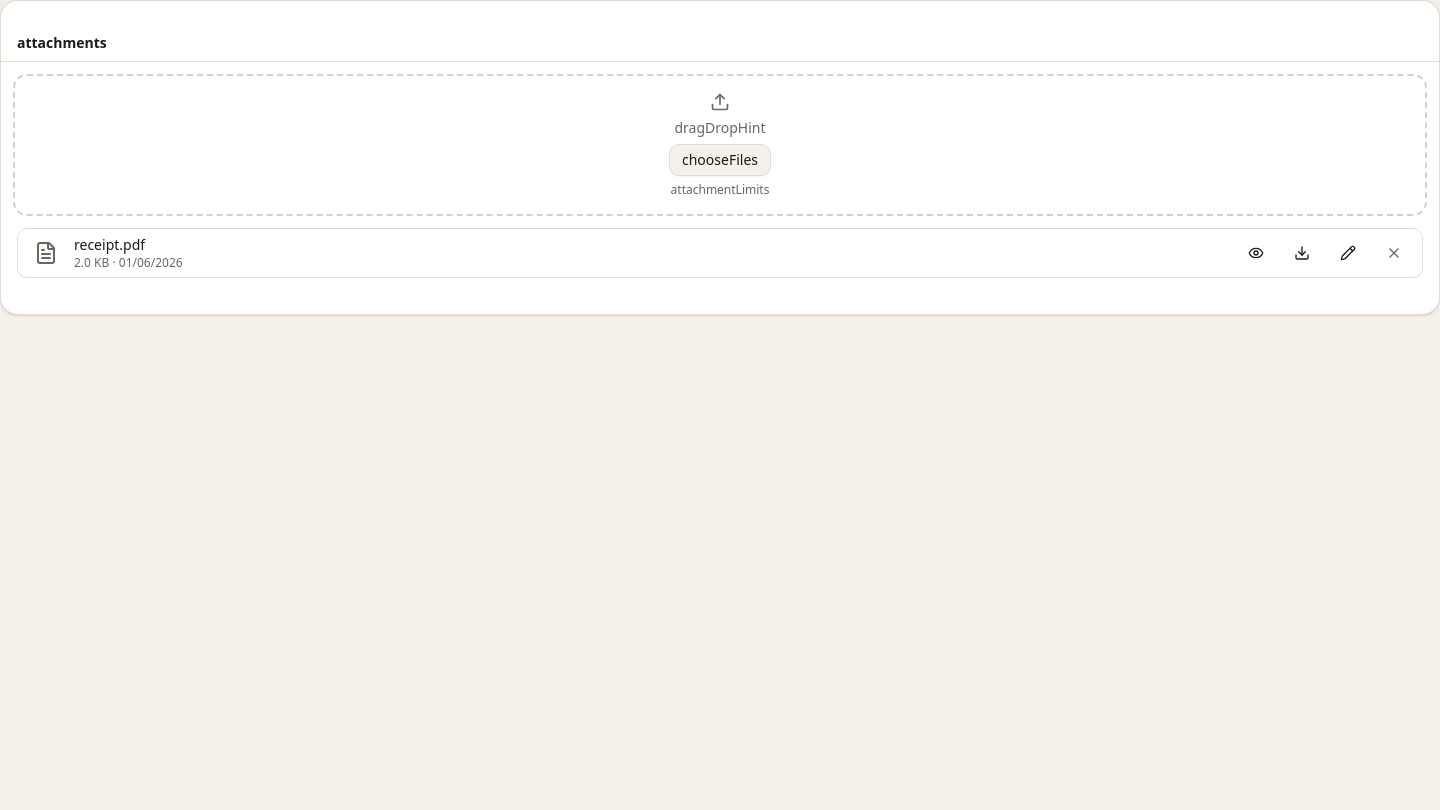
it: InvoiceAttachments rename › refuses a changed extension before saving
Expected: the text "receipt.pdf" is shown, [74, 235, 145, 254]
Click the button titled "rename": (1348, 253) [1330, 237, 1366, 269]
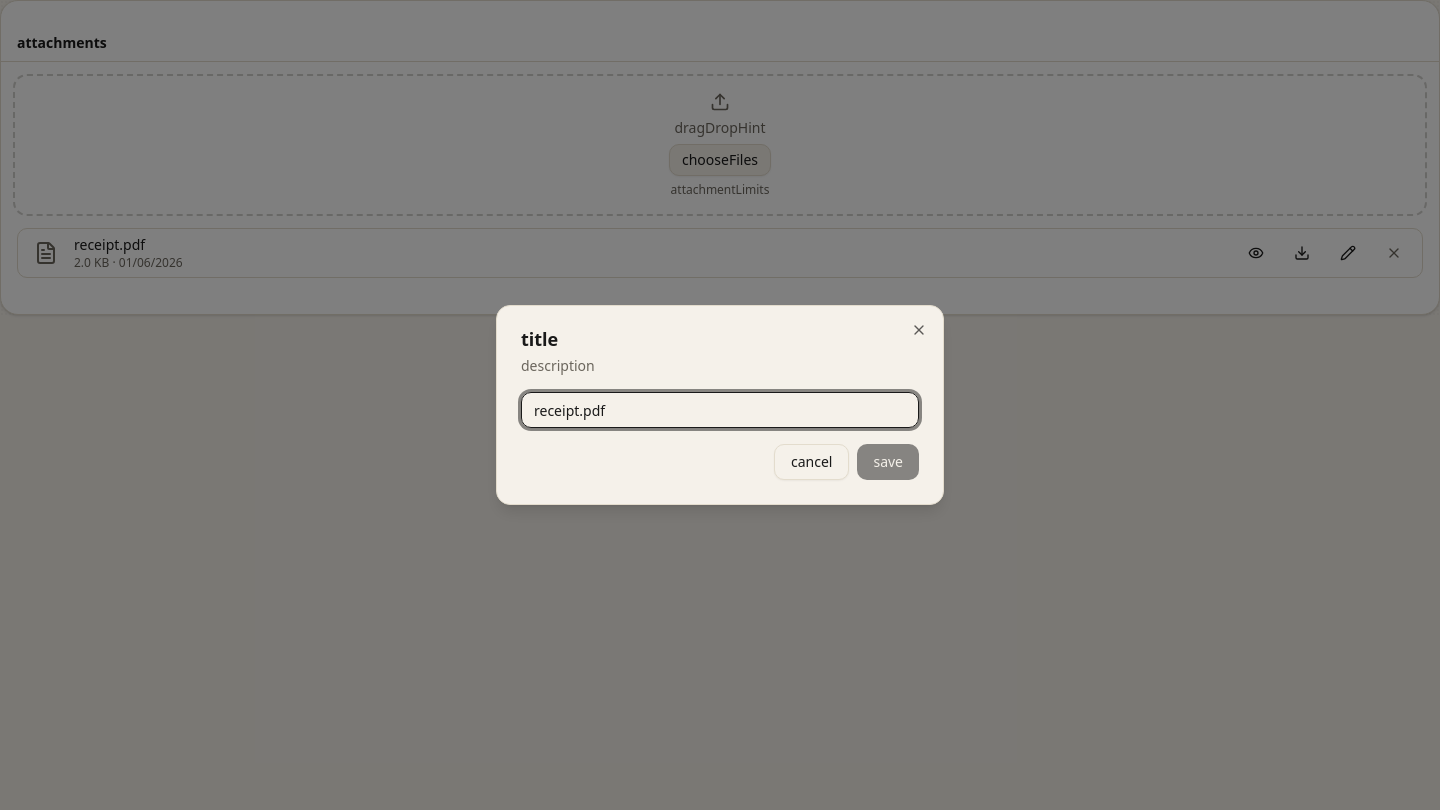
Replace the text in the field showing "receipt.pdf" with "receipt.png": (720, 410) [521, 392, 919, 428]
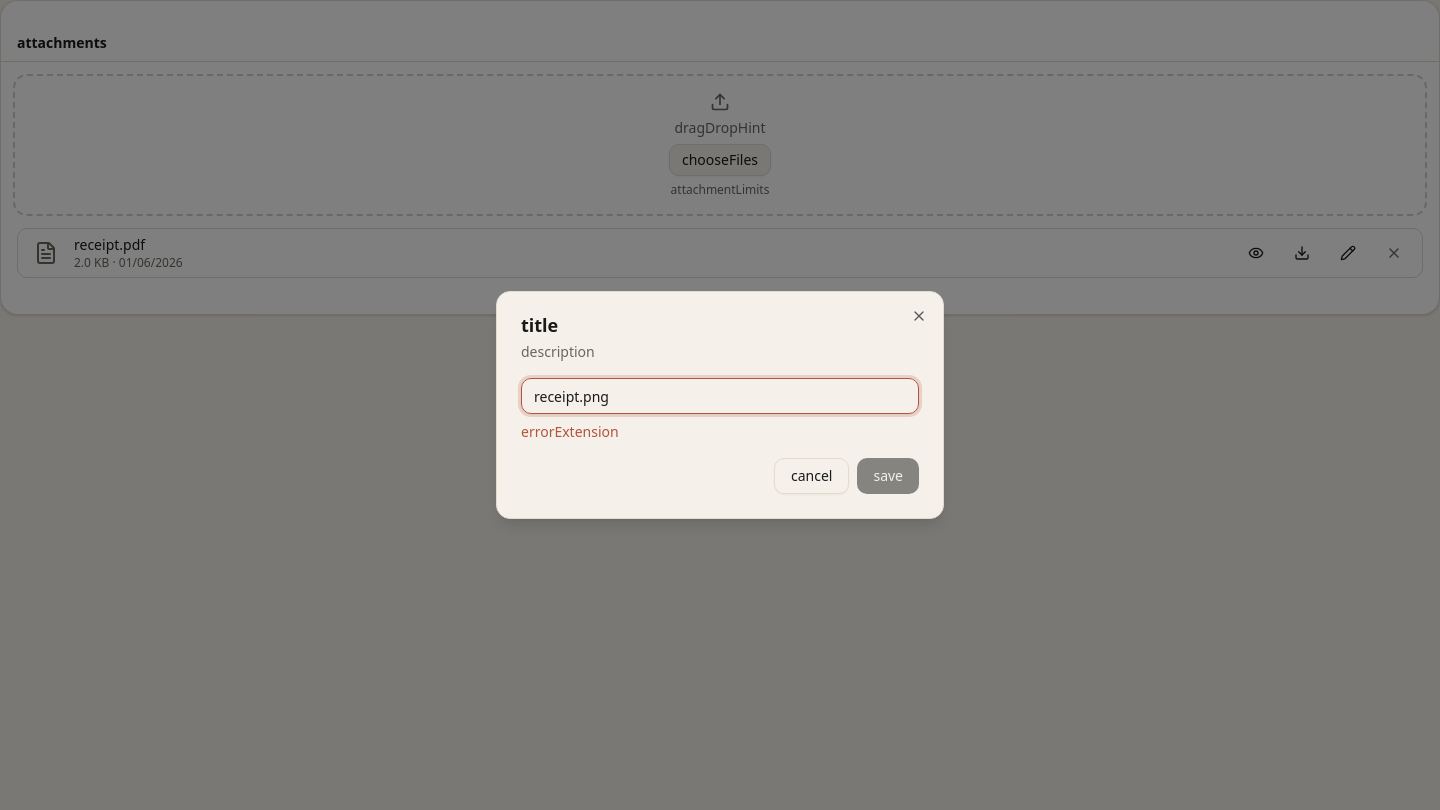
Now the button "save" is disabled, box [857, 458, 919, 494]
Now the message reads "errorExtension", box [521, 422, 619, 441]
